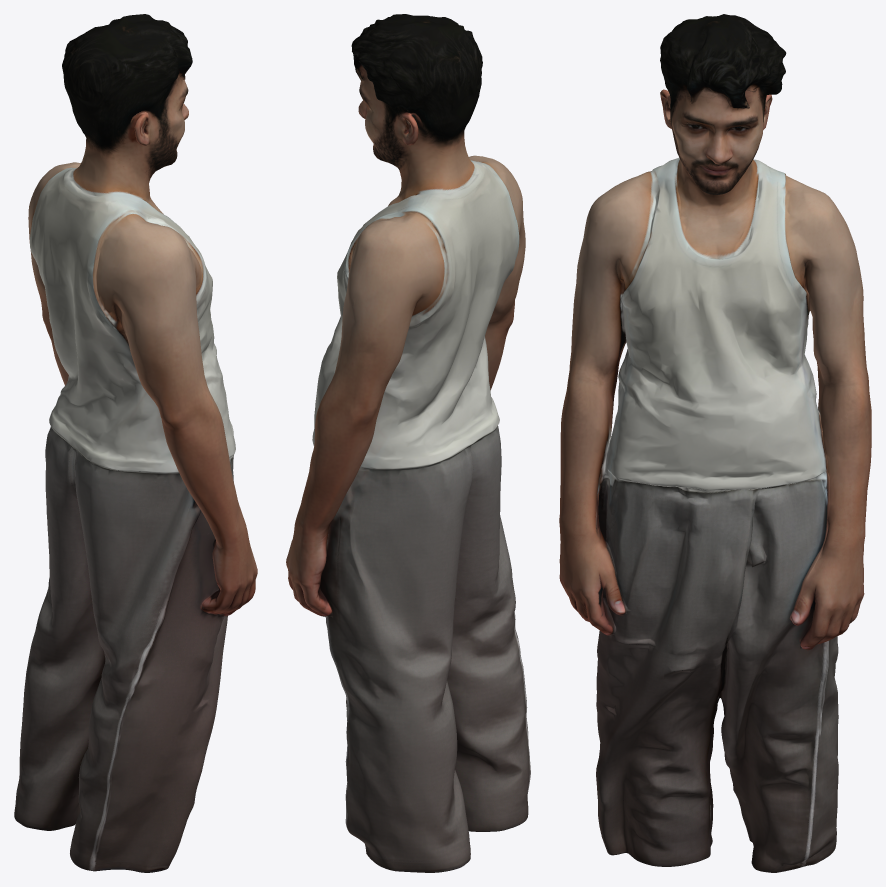
File: av_f36a85151def.glb
3 renders of one model, left to right at view 1: azimuth 30°, elevation 25°; view 2: azimuth 150°, elevation 25°; view 3: azimuth 270°, elevation 25°, orthographic. The views are drawn at different scales.
Parts seen in each view (by area): view 1: tripo_node_ec6ab752-97a9-4781-9e69-6a5191d8a12a; view 2: tripo_node_ec6ab752-97a9-4781-9e69-6a5191d8a12a; view 3: tripo_node_ec6ab752-97a9-4781-9e69-6a5191d8a12a.
Part boxes in pixels (x1,y1,x2,y2): tripo_node_ec6ab752-97a9-4781-9e69-6a5191d8a12a: [14, 14, 257, 872]; tripo_node_ec6ab752-97a9-4781-9e69-6a5191d8a12a: [286, 14, 530, 872]; tripo_node_ec6ab752-97a9-4781-9e69-6a5191d8a12a: [559, 14, 871, 872].
Bounding box in the file's own units: 0.3829 × 1.75 × 0.5903.
1 material, 1 textured.
